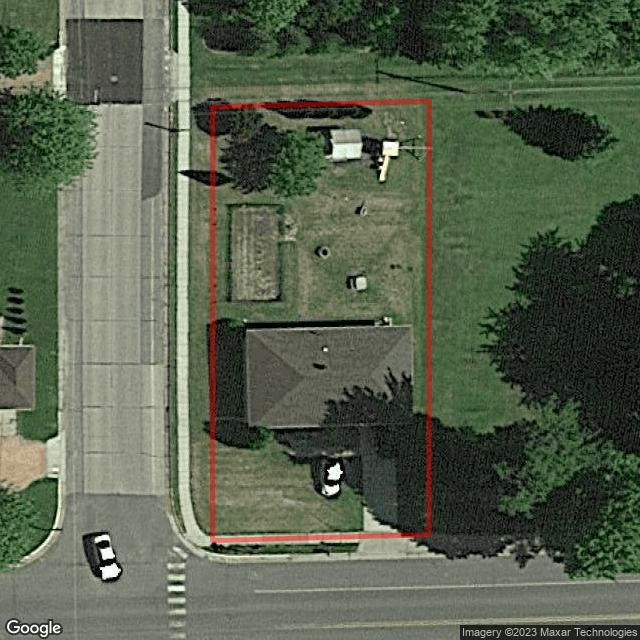Driveway: (362, 452, 398, 532)
Extra Driveway: (189, 107, 212, 546)
Extra Sidewalk: (175, 99, 206, 545)
House: (246, 324, 414, 428)
Other: (328, 129, 361, 161)
